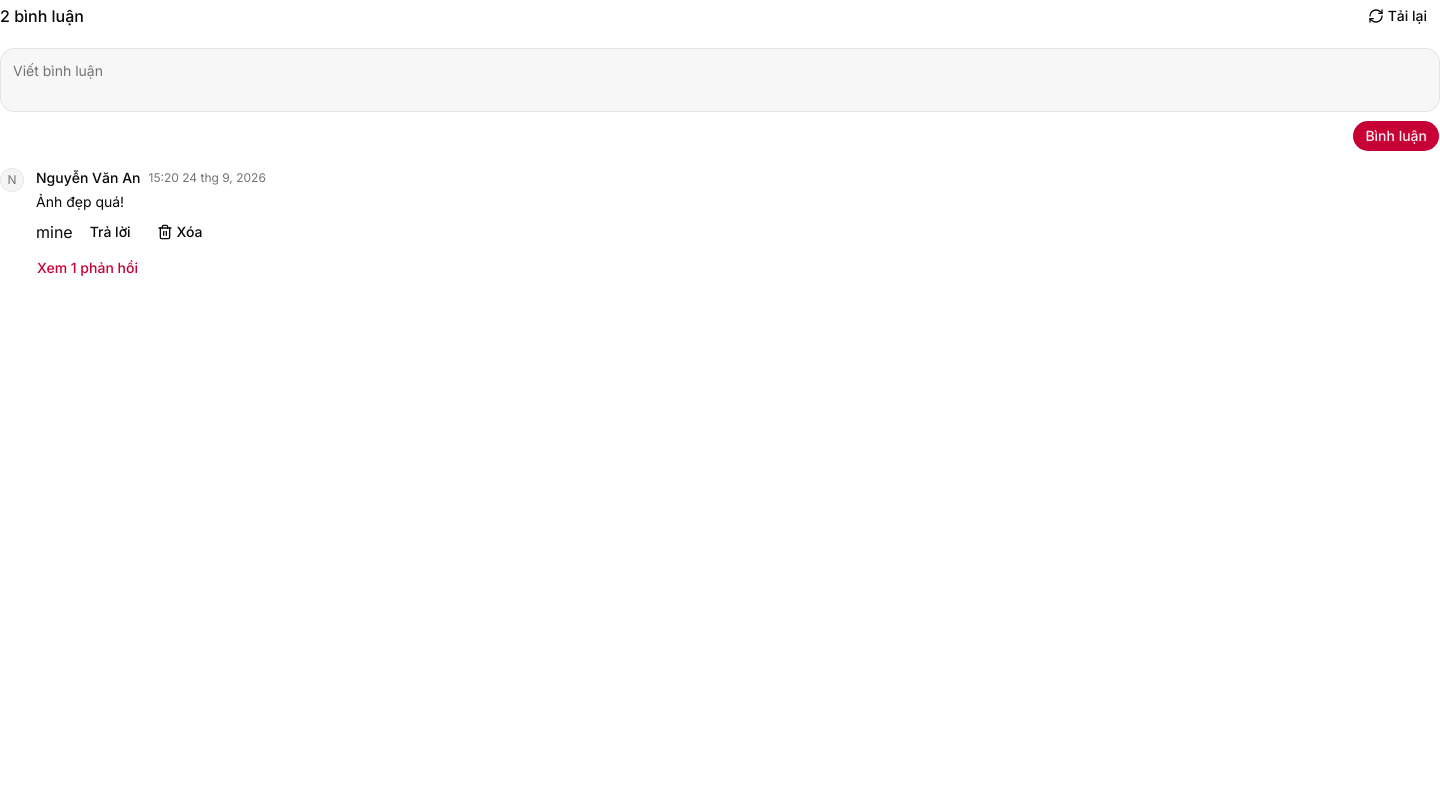
Test: CommentThread › xóa bình luận của mình (AlertDialog): thành 'đã bị xóa' tại chỗ, nhánh còn, số giảm
Expected: the number of list items with test id "comment" is 1, [0,168,266,284]
Click the button "Xóa". click: [182, 232]
box: [148,216,216,248]
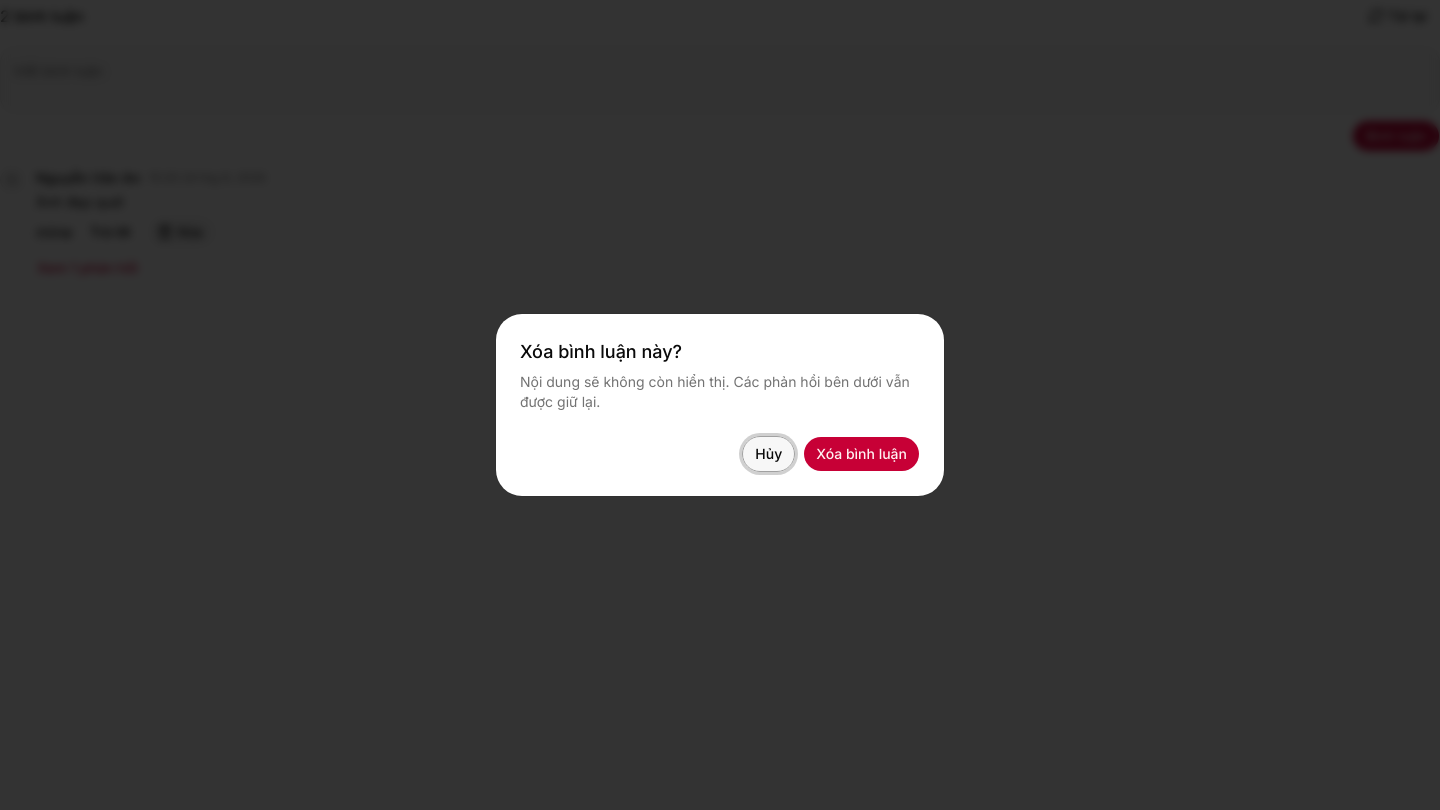
Click the button "Xóa bình luận". click: [862, 454]
box: [803,436,920,472]
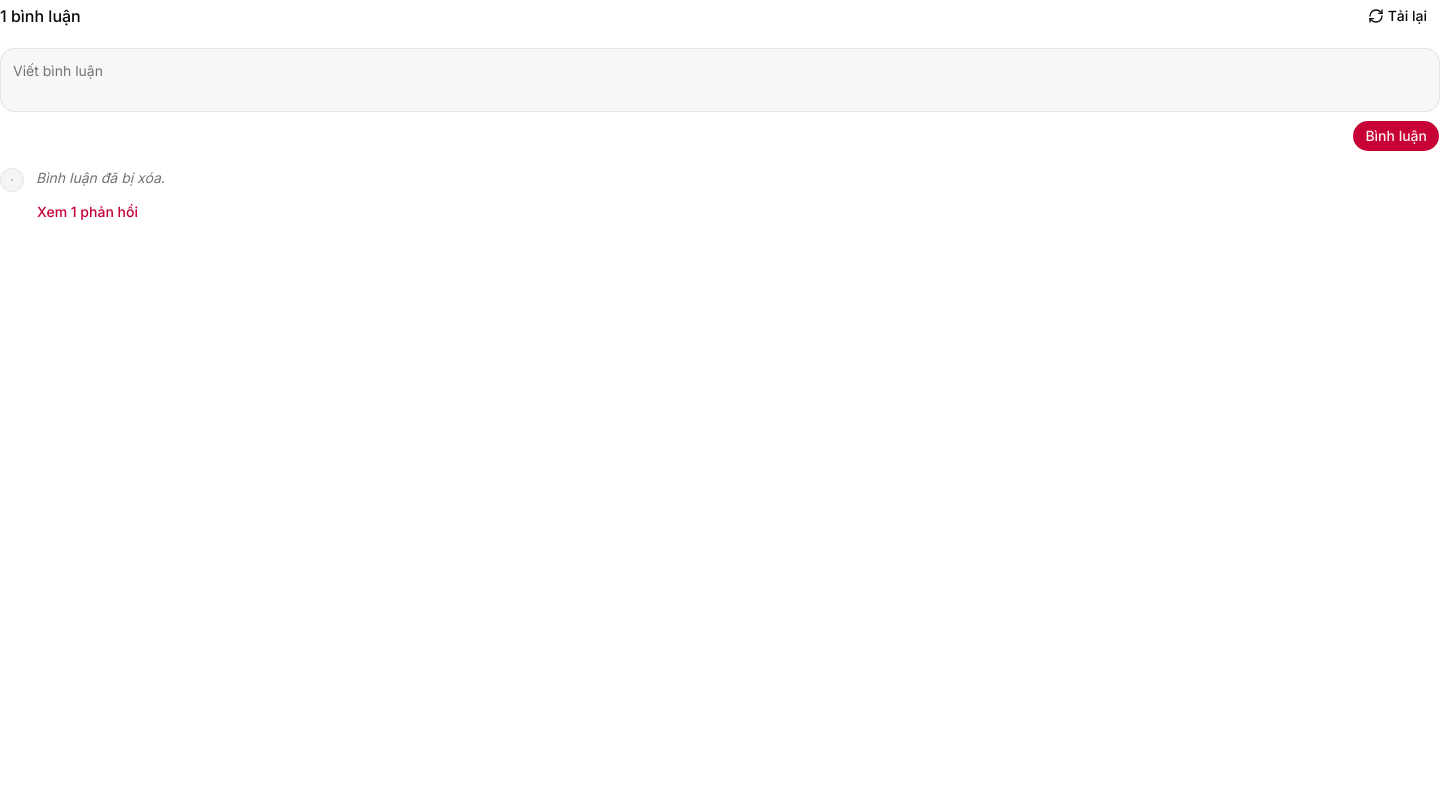
Expected: the button "Xem 1 phản hồi" is shown, [36,196,139,228]
Result: the text "Bình luận đã bị xóa." is shown at [36,169,165,186]
Result: the heading with test id "comment-total" reads "1 bình luận" at [0,4,81,28]
